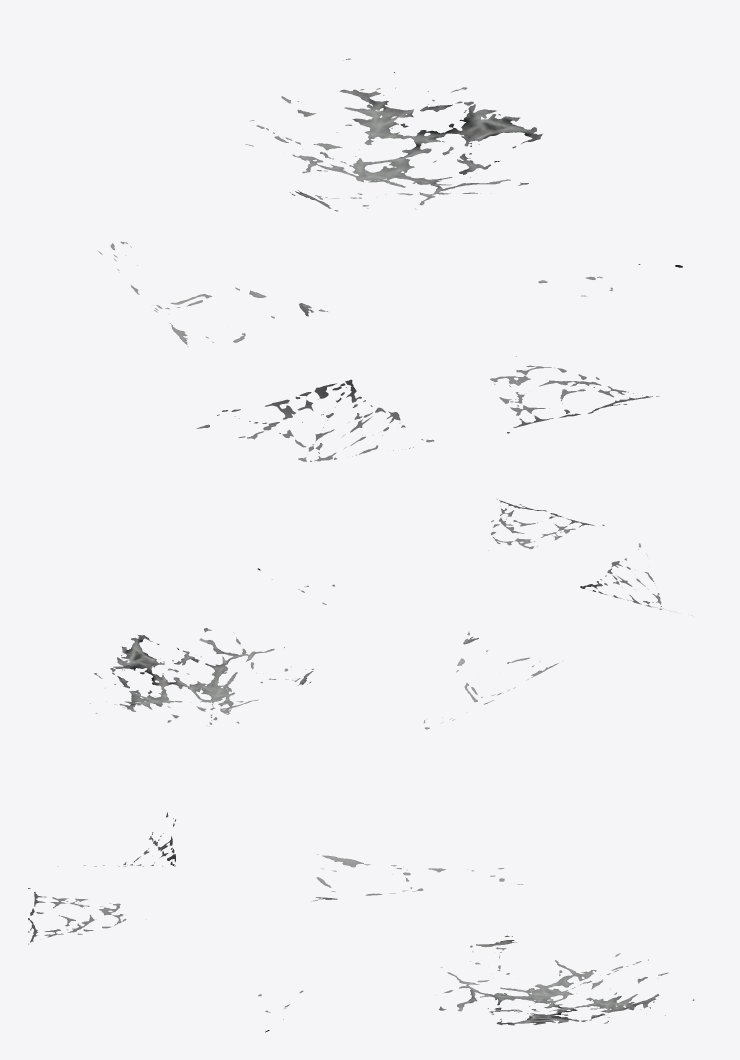
File: 2_Misc_ZhuWang_01.FBX
3 renders of one model, top to bottom at view 1: azimuth 30°, elevation 25°; view 2: azimuth 150°, elevation 25°; view 3: azimuth 270°, elevation 25°, orthographic. The views are drawn at different scales.
Parts seen in each view (by area): view 1: 2_Misc_ZhuWang_01_01, 2_Misc_ZhuWang_01_03, 2_Misc_ZhuWang_01_02, 2_Misc_ZhuWang_01_04; view 2: 2_Misc_ZhuWang_01_01, 2_Misc_ZhuWang_01_02, 2_Misc_ZhuWang_01_03; view 3: 2_Misc_ZhuWang_01_01, 2_Misc_ZhuWang_01_02, 2_Misc_ZhuWang_01_04.
Part boxes in pixels (left/top/right/bottom): 2_Misc_ZhuWang_01_01: left=245, top=58, right=542, bottom=211; 2_Misc_ZhuWang_01_03: left=196, top=379, right=434, bottom=461; 2_Misc_ZhuWang_01_02: left=490, top=356, right=659, bottom=433; 2_Misc_ZhuWang_01_04: left=98, top=241, right=327, bottom=346; 2_Misc_ZhuWang_01_01: left=90, top=628, right=313, bottom=726; 2_Misc_ZhuWang_01_02: left=488, top=499, right=604, bottom=550; 2_Misc_ZhuWang_01_03: left=580, top=543, right=670, bottom=611; 2_Misc_ZhuWang_01_01: left=435, top=935, right=694, bottom=1025; 2_Misc_ZhuWang_01_02: left=28, top=888, right=126, bottom=944; 2_Misc_ZhuWang_01_04: left=311, top=854, right=522, bottom=901.
Bounding box in the file's own units: 474 × 29.64 × 600.
